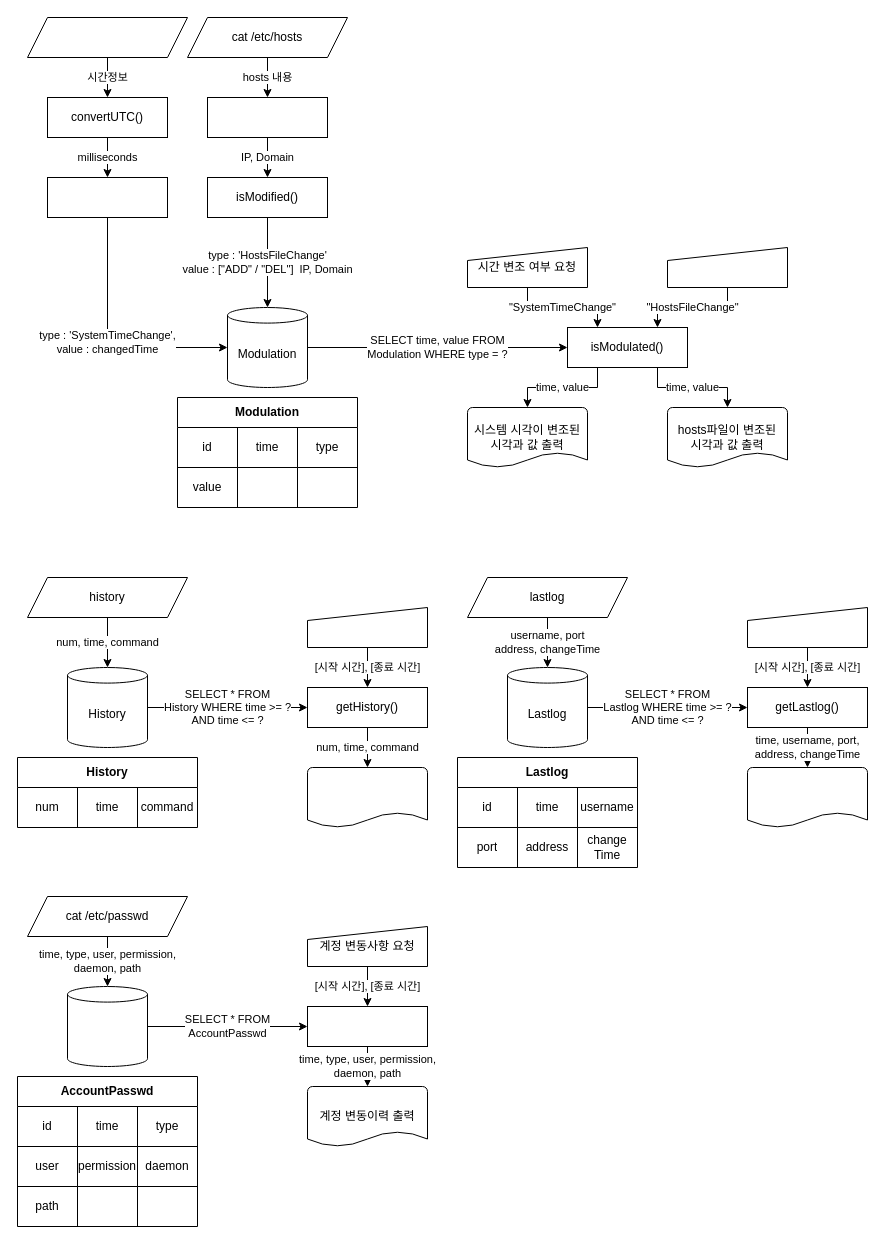
This 885x1244 diagram has some shape labels left out. The shapes that lost their labels are listed below. From the top down, each one's centre as x and y in pixels, then its label:
At (107,37): "date".
At (267,117): "hostsParser()".
At (107,197): "isSimilar()".
At (727,267): "hosts 파일 변조 여부 요청".
At (367,627): "특정 시간대의 명령 요청".
At (807,627): "특정 시간대의 접속기록 요청".
At (367,797): "사용자가 입력한 명령어 출력".
At (807,797): "접근 기록 출력".
At (107,1026): "Account Passwd".
At (367,1026): "getPasswdChangeLog()".
